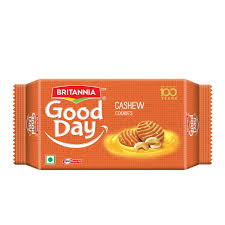gooday-medium: (18, 77, 208, 170)
